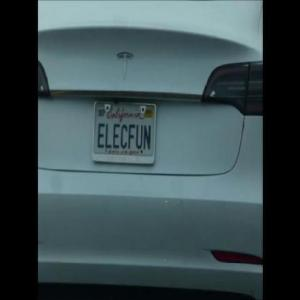Plate: (94, 100, 157, 166)
